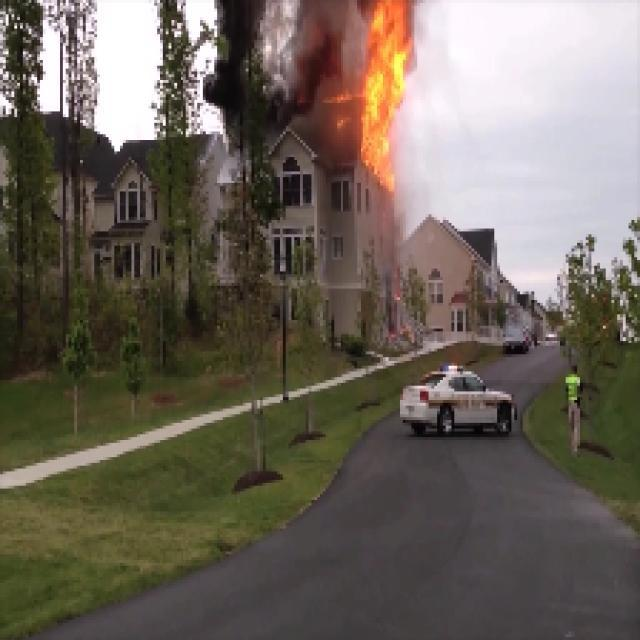Fire: (352, 0, 420, 178)
Smoke: (214, 3, 340, 142)
